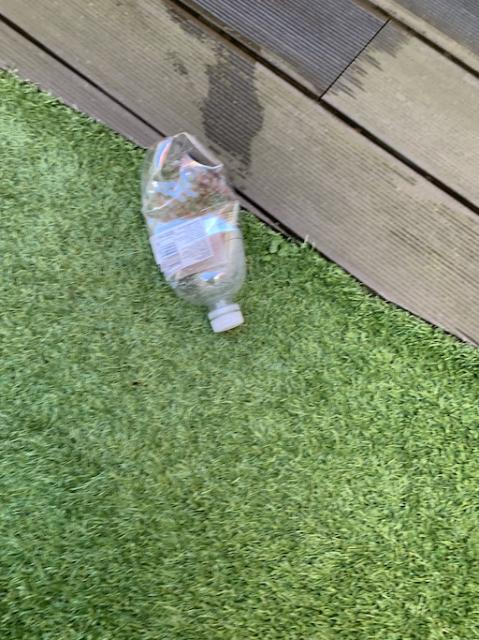plastic: (141, 132, 244, 330)
